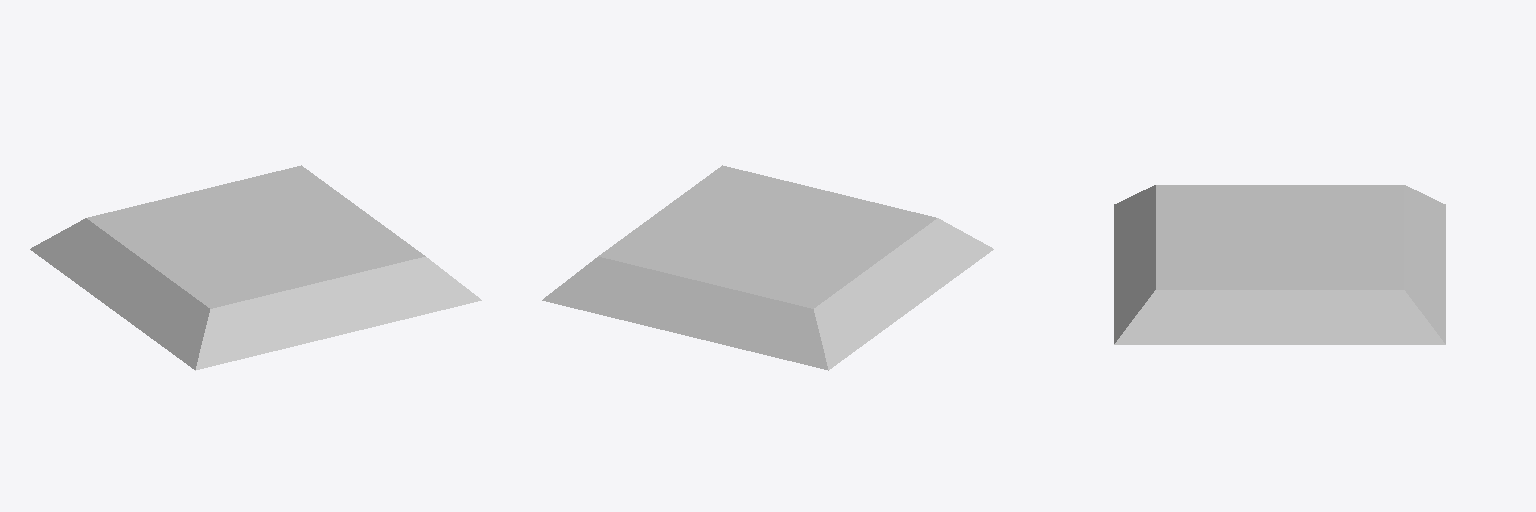
File: temple_top_structure.obj
3 renders of one model, left to right at view 1: azimuth 30°, elevation 25°; view 2: azimuth 150°, elevation 25°; view 3: azimuth 270°, elevation 25°, orthographic.
Parts seen in each view (by area): view 1: Cube.004, Cube.007, Cube.008, Cube.010, Cube.012, Cube.009; view 2: Cube.004, Cube.005, Cube.008, Cube.009, Cube.011, Cube.010; view 3: Cube.004, Cube.006, Cube.005, Cube.007, Cube.011, Cube.012.
Boxes of the visible parts, <box> form: Cube.004: <box>87,165,425,308</box>; Cube.007: <box>211,257,445,361</box>; Cube.008: <box>50,218,209,354</box>; Cube.010: <box>175,309,230,370</box>; Cube.012: <box>426,257,481,308</box>; Cube.009: <box>30,218,85,263</box>; Cube.004: <box>598,165,936,308</box>; Cube.005: <box>578,257,812,361</box>; Cube.008: <box>814,218,973,354</box>; Cube.009: <box>793,309,848,370</box>; Cube.011: <box>542,257,597,308</box>; Cube.010: <box>938,218,993,263</box>; Cube.004: <box>1156,185,1403,289</box>; Cube.006: <box>1156,290,1403,344</box>; Cube.005: <box>1404,185,1445,326</box>; Cube.007: <box>1114,185,1155,326</box>; Cube.011: <box>1404,290,1445,344</box>; Cube.012: <box>1114,290,1155,344</box>.
Bounding box in the file's own units: 4 × 0.5 × 4.